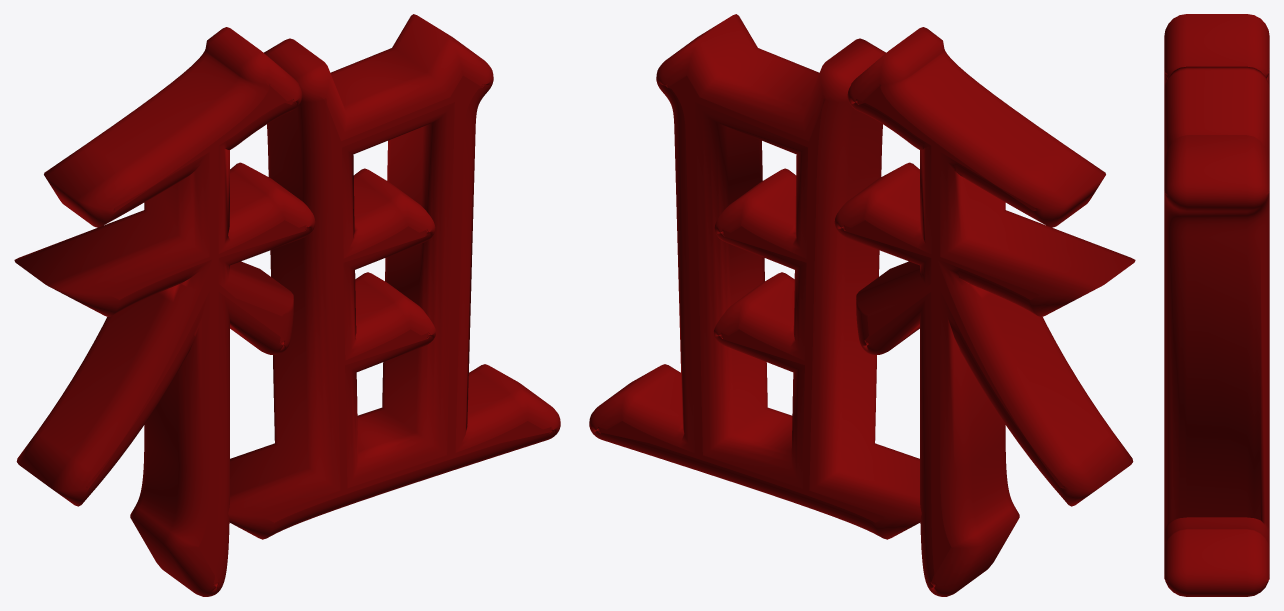
3 views of the same model, side by side, from view 1: azimuth 30°, elevation 25°; view 2: azimuth 150°, elevation 25°; view 3: azimuth 270°, elevation 25° (orthographic). The views are drawn at different scales.
Parts seen in each view (by area): view 1: zu; view 2: zu; view 3: zu.
Part boxes in pixels (x1,y1,x2,y2): zu: [14, 14, 560, 596]; zu: [589, 14, 1135, 596]; zu: [1164, 14, 1269, 596].
Size of the model in its own units: 76.8 by 76.14 by 14.
